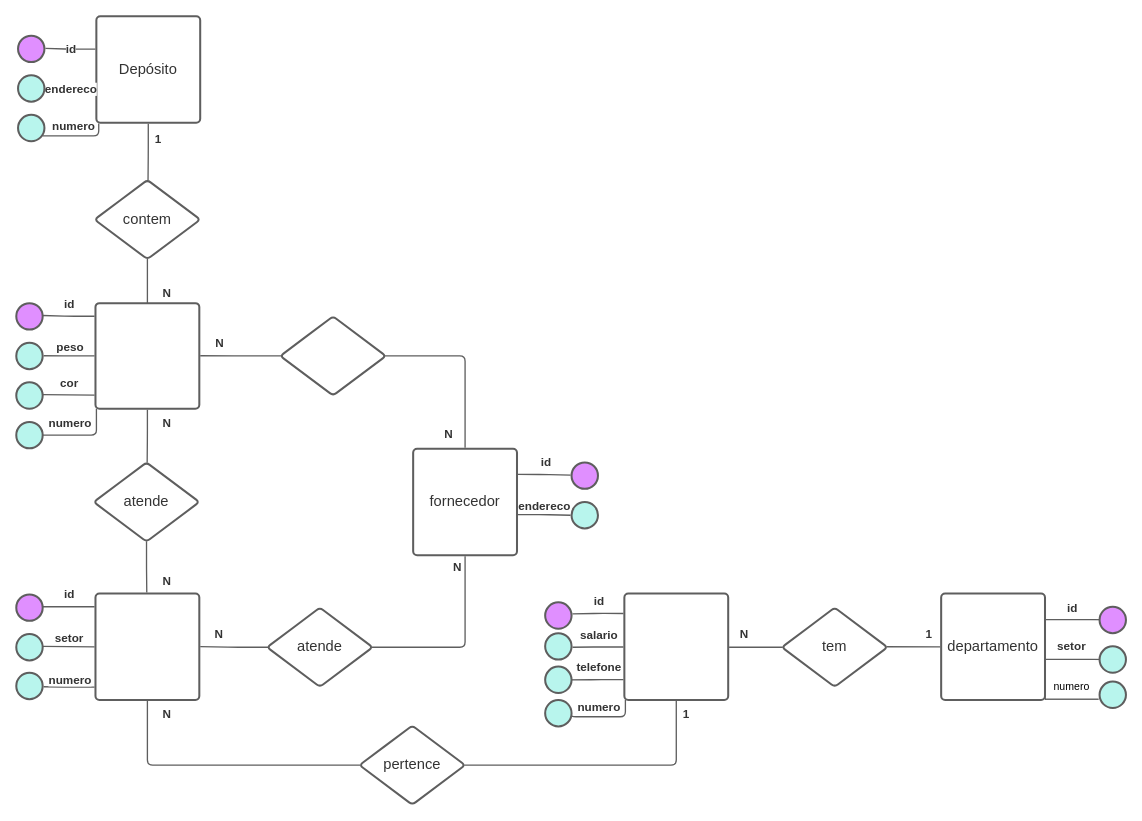
Image size: 1142x821. Some labels were removed from this diagram. Each missing label, with the box of its shape:
fornece: (279, 315, 386, 396)
funcionario: (623, 592, 729, 701)
peca: (94, 302, 200, 409)
projeto: (94, 592, 200, 701)
